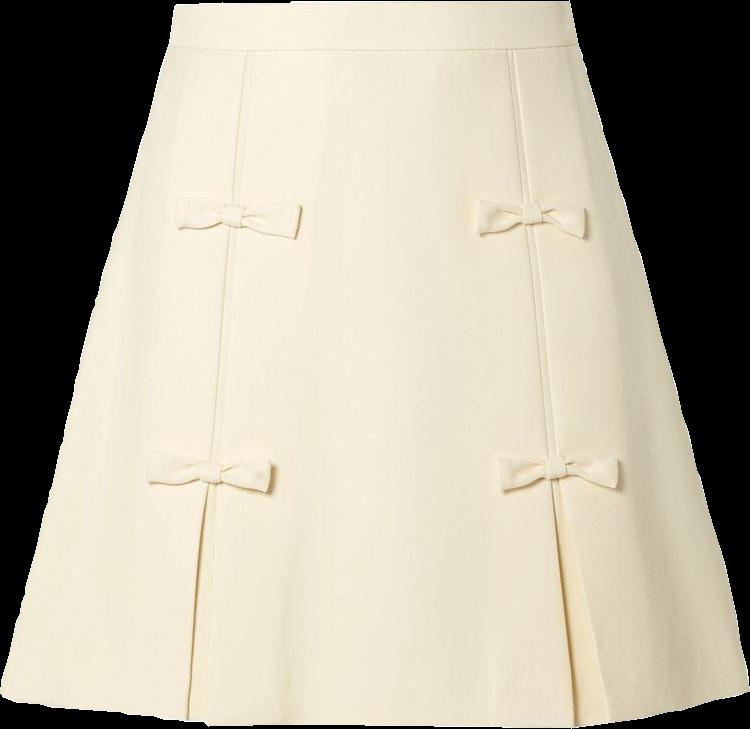Hemline: (0, 686, 749, 728)
Waistline: (165, 37, 580, 56), (171, 0, 570, 10)
